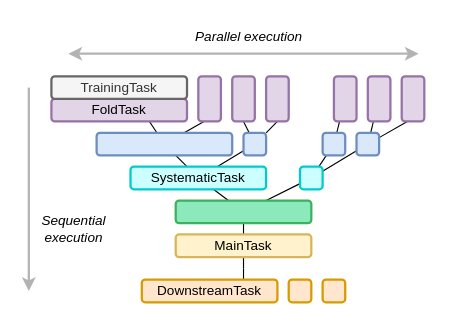
Image size: 449x322. Some labels were removed from this diagram. The centre of each missing label's shape, as x and y in pixels:
"EnsembleTask" goes at [164,143].
"EstimatorTask" goes at [243,211].
